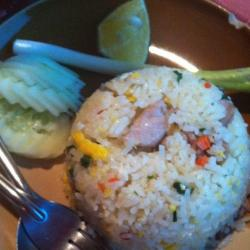rice: (68, 64, 248, 249)
